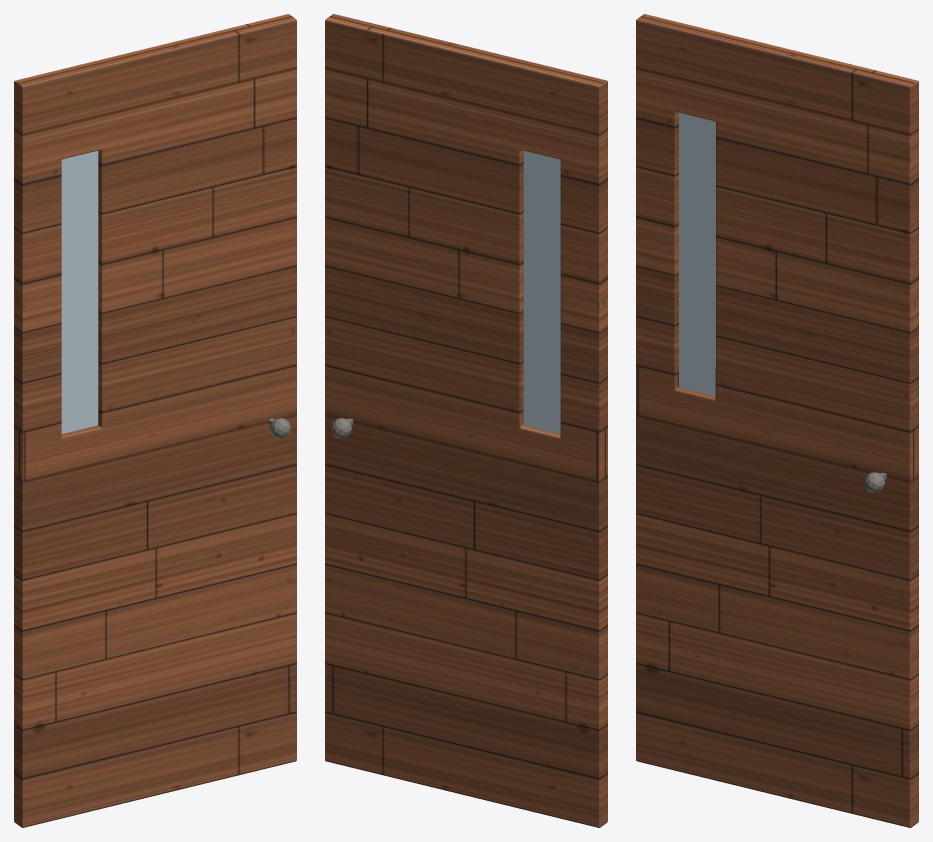
Rendered from door_leaf_service.glb.
3 renders of one model, left to right at view 1: azimuth 30°, elevation 25°; view 2: azimuth 150°, elevation 25°; view 3: azimuth 330°, elevation 25°, orthographic.
Visible parts, largest first — view 1: door_leaf_service_boards, door_leaf_service_glass; view 2: door_leaf_service_boards, door_leaf_service_glass; view 3: door_leaf_service_boards, door_leaf_service_glass.
Boxes of the visible parts, left/top/right/bottom form: door_leaf_service_boards: left=14, top=14, right=296, bottom=827; door_leaf_service_glass: left=61, top=151, right=98, bottom=433; door_leaf_service_boards: left=325, top=14, right=607, bottom=827; door_leaf_service_glass: left=523, top=150, right=560, bottom=434; door_leaf_service_boards: left=636, top=14, right=918, bottom=827; door_leaf_service_glass: left=679, top=112, right=715, bottom=395.
Bounding box in the file's own units: 0.83 × 2.14 × 0.201.
Materials: 3 (1 with a texture image).
